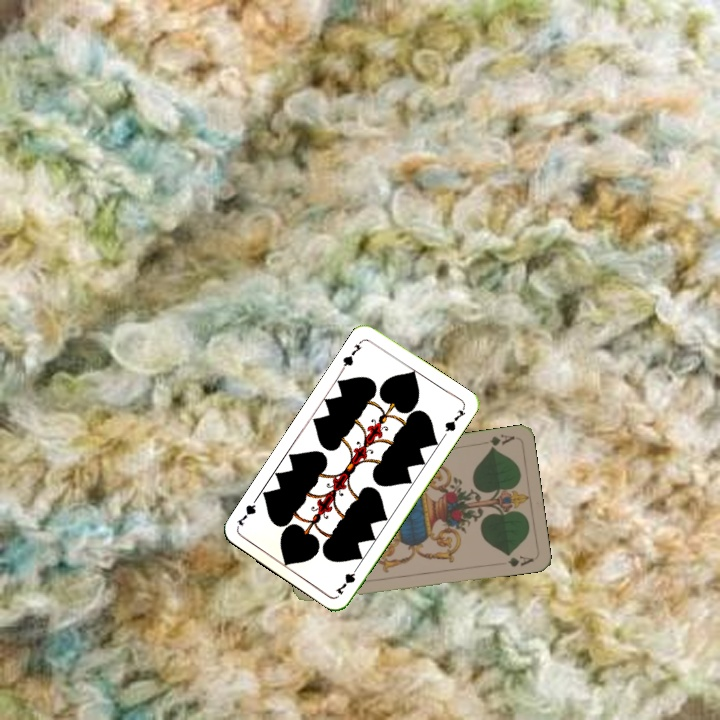G7: (332, 561, 362, 598), (338, 337, 365, 373)
GA: (486, 430, 517, 452)
